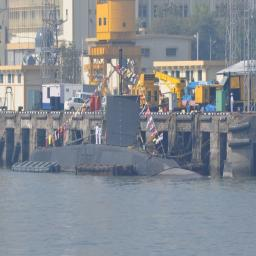submarine: (16, 94, 210, 180)
